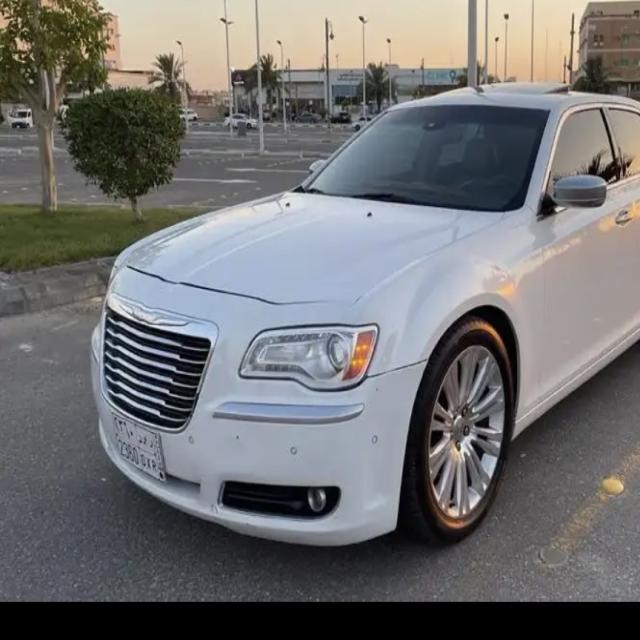license_plate: (111, 412, 164, 482)
